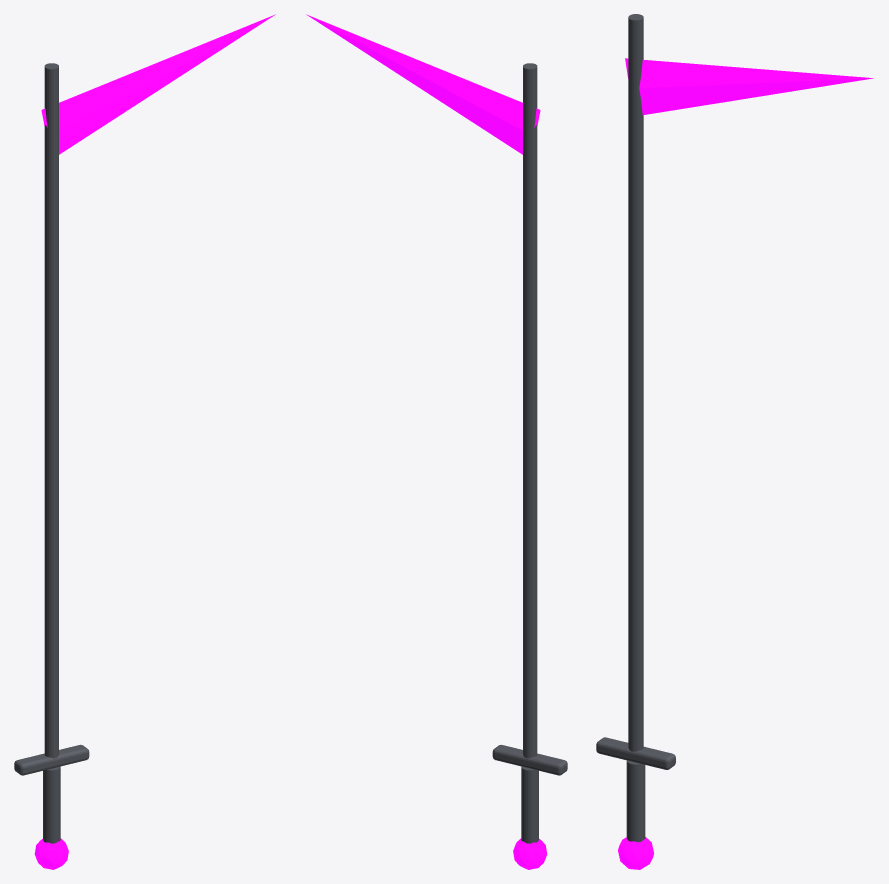
Rendered from void_scepter_02_8103.glb.
The picture shows the model from 3 angles, left to right: view 1: azimuth 30°, elevation 25°; view 2: azimuth 150°, elevation 25°; view 3: azimuth 330°, elevation 25°; orthographic projection. The views are drawn at different scales.
Parts seen in each view (by area): view 1: Cylinder; view 2: Cylinder; view 3: Cylinder.
Part boxes in pixels (x1=…): Cylinder: x1=14, y1=14, x2=275, y2=869; Cylinder: x1=306, y1=14, x2=567, y2=869; Cylinder: x1=596, y1=14, x2=873, y2=869.
Bounding box in the file's own units: 0.8222 × 2.43 × 0.096.
